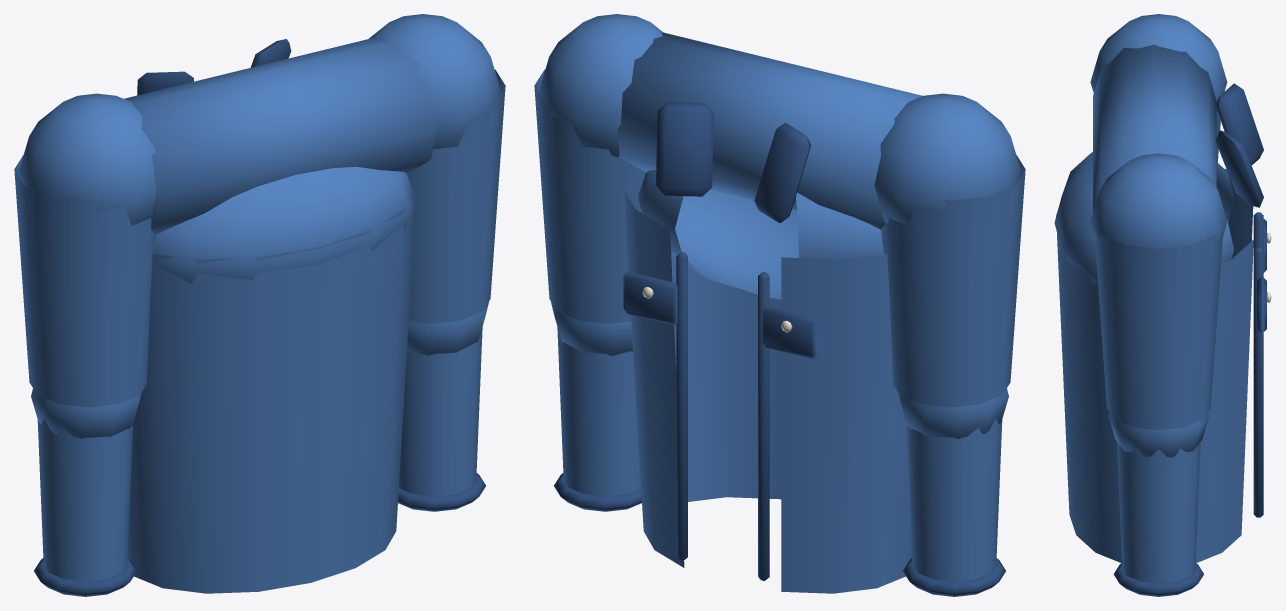
Rendered from top_denim.glb.
3 views of the same model, side by side, from view 1: azimuth 30°, elevation 25°; view 2: azimuth 150°, elevation 25°; view 3: azimuth 270°, elevation 25° (orthographic). The views are drawn at different scales.
Visible parts, largest first — view 1: Body, ArmL, ArmR, ForeArmL, ForeArmR; view 2: Body, ArmL, ArmR, ForeArmL, ForeArmR; view 3: Body, ArmR, ForeArmR, ArmL.
Boxes of the visible parts, x1=… form: Body: x1=124, y1=37, x2=436, y2=593; ArmL: x1=14, y1=93, x2=156, y2=438; ArmR: x1=369, y1=14, x2=505, y2=355; ForeArmL: x1=34, y1=418, x2=136, y2=596; ForeArmR: x1=398, y1=327, x2=485, y2=511; Body: x1=618, y1=32, x2=922, y2=593; ArmL: x1=874, y1=93, x2=1025, y2=438; ArmR: x1=534, y1=14, x2=662, y2=355; ForeArmL: x1=903, y1=418, x2=1005, y2=596; ForeArmR: x1=554, y1=327, x2=641, y2=511; Body: x1=1054, y1=44, x2=1271, y2=562; ArmR: x1=1090, y1=153, x2=1227, y2=457; ForeArmR: x1=1113, y1=442, x2=1203, y2=596; ArmL: x1=1090, y1=14, x2=1227, y2=162.
Size of the model in its own units: 0.578 by 0.568 by 0.2631.
